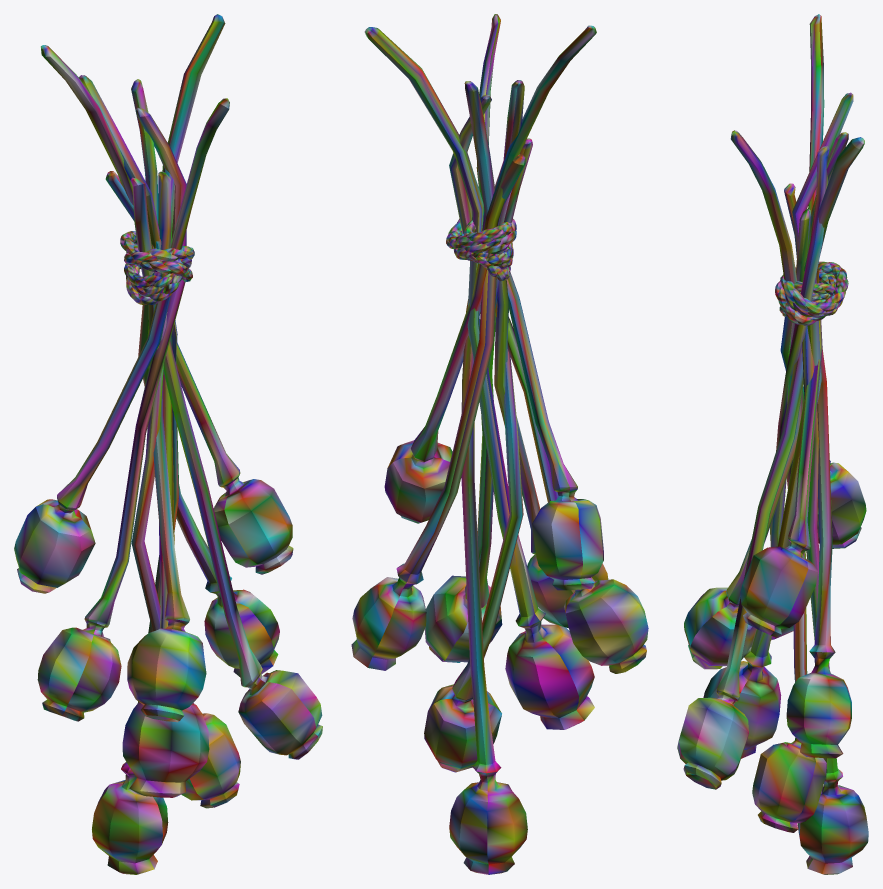
The model's file is Herb.fbx.
3 renders of one model, left to right at view 1: azimuth 30°, elevation 25°; view 2: azimuth 150°, elevation 25°; view 3: azimuth 270°, elevation 25°, orthographic. The views are drawn at different scales.
Parts seen in each view (by area): view 1: Herb; view 2: Herb; view 3: Herb.
Boxes of the visible parts, x1,y1,x2,y2 form: Herb: [14, 14, 322, 874]; Herb: [351, 14, 648, 874]; Herb: [677, 14, 868, 874].
Bounding box in the file's own units: 60 × 190 × 40.67.
